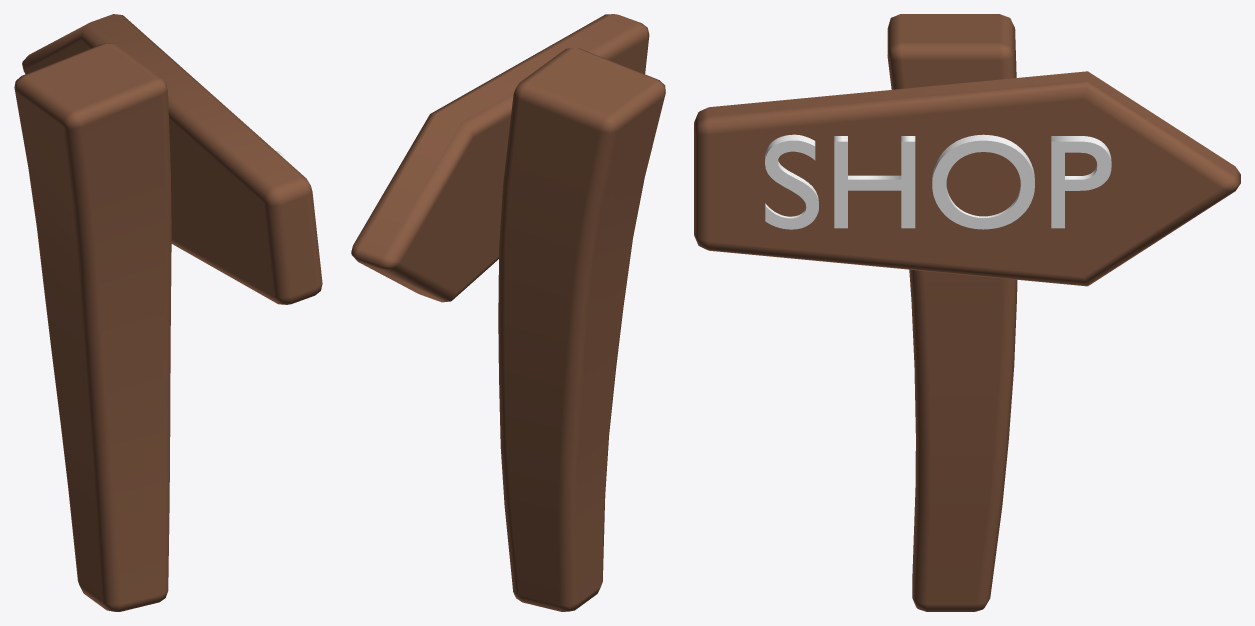
File: shop_direct.glb
The picture shows the model from 3 angles, left to right: view 1: azimuth 30°, elevation 25°; view 2: azimuth 150°, elevation 25°; view 3: azimuth 270°, elevation 25°; orthographic projection. The views are drawn at different scales.
Parts seen in each view (by area): view 1: Plane.009, Plane.010; view 2: Plane.009, Plane.010; view 3: Plane.010, Plane.009, Text.
Part boxes in pixels (<box>): Plane.009: <box>14,43,171,611</box>; Plane.010: <box>22,14,322,304</box>; Plane.009: <box>498,48,665,611</box>; Plane.010: <box>351,14,649,302</box>; Plane.010: <box>694,71,1240,286</box>; Plane.009: <box>887,14,1017,611</box>; Text: <box>765,134,1111,229</box>.
Size of the model in its own units: 0.6987 by 2.11 by 1.86.
